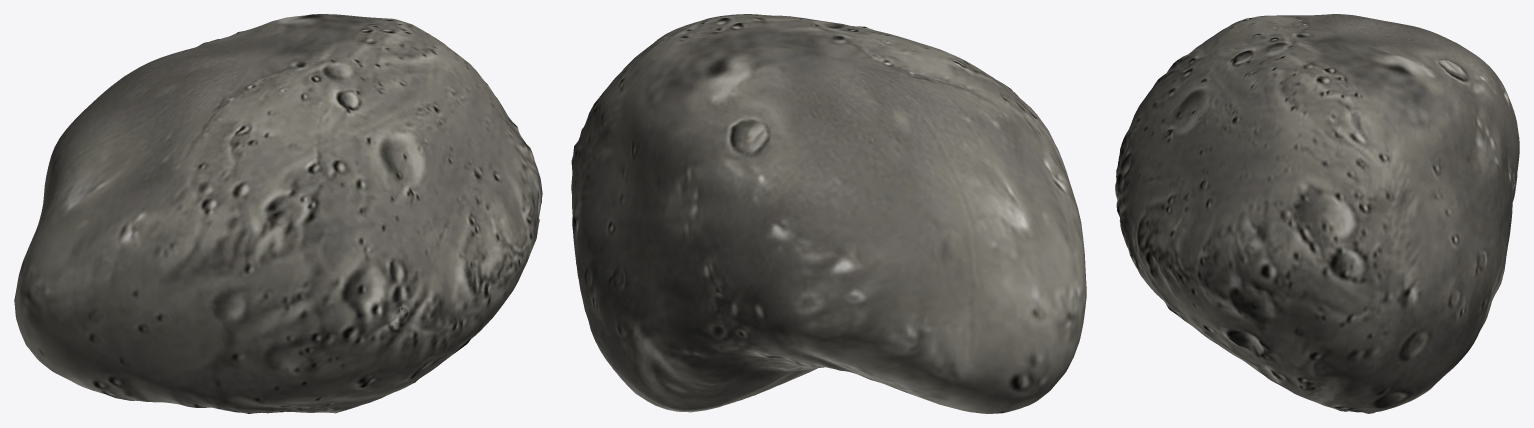
Rendered from deimos.glb.
The picture shows the model from 3 angles, left to right: view 1: azimuth 30°, elevation 25°; view 2: azimuth 150°, elevation 25°; view 3: azimuth 270°, elevation 25°; orthographic projection. The views are drawn at different scales.
Visible parts, largest first — view 1: deimos; view 2: deimos; view 3: deimos.
Boxes of the visible parts, <box> form: deimos: <box>14,14,542,413</box>; deimos: <box>571,14,1086,413</box>; deimos: <box>1115,14,1519,413</box>.
Bounding box in the file's own units: 15.01 × 10.51 × 11.87.
1 material, 1 textured.
